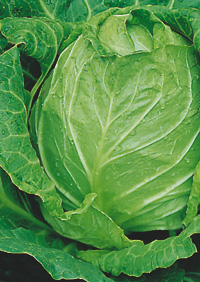cabbage: (34, 9, 195, 237)
